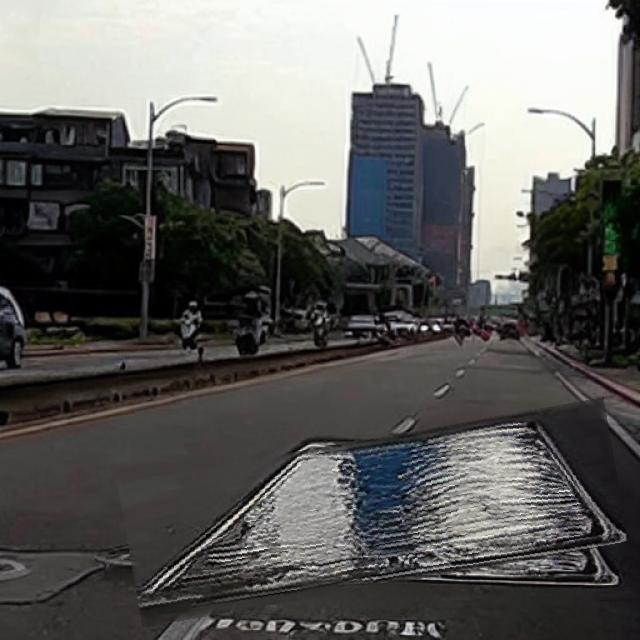puddle: (123, 419, 626, 608)
